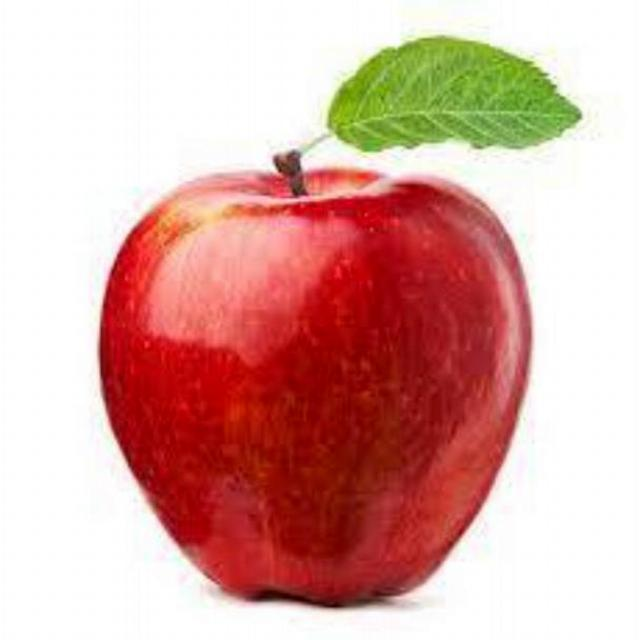HEALTHY: (79, 125, 554, 619)
